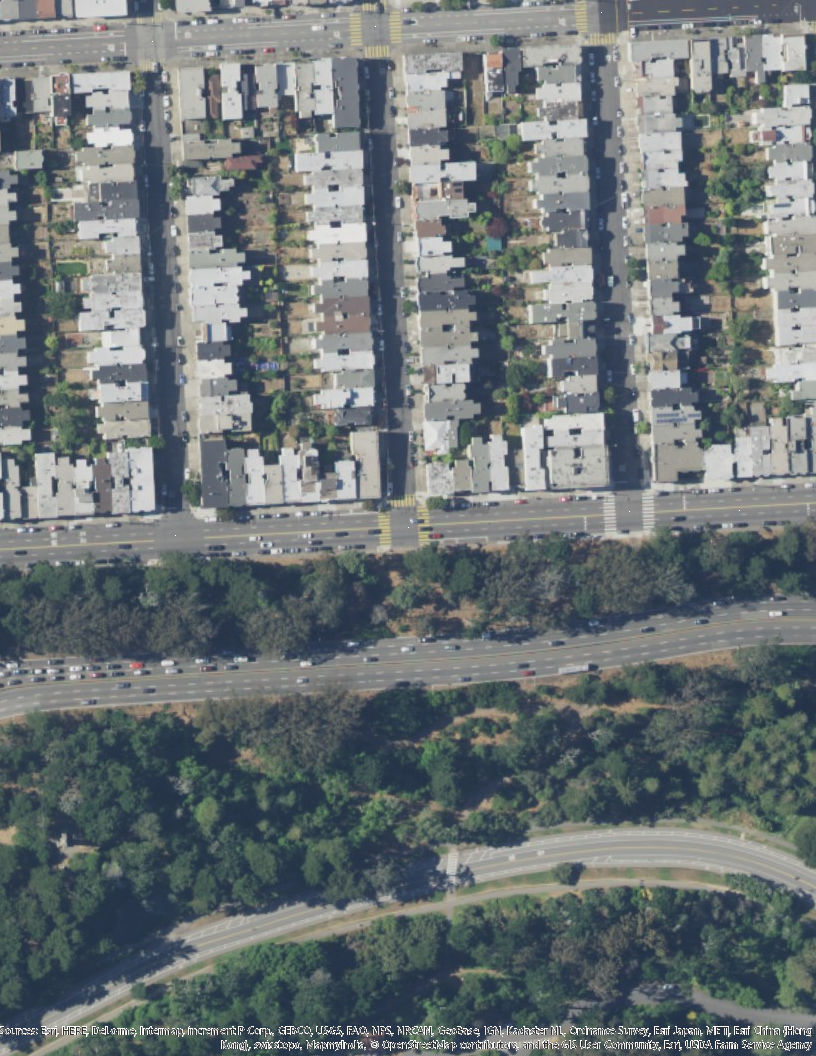zebracross: (377, 510, 392, 551), (602, 497, 618, 534), (642, 491, 655, 531), (349, 11, 362, 50), (574, 1, 588, 35), (388, 11, 402, 45), (419, 508, 432, 544), (588, 31, 621, 45), (391, 494, 421, 509), (365, 46, 391, 59), (361, 1, 385, 11)
